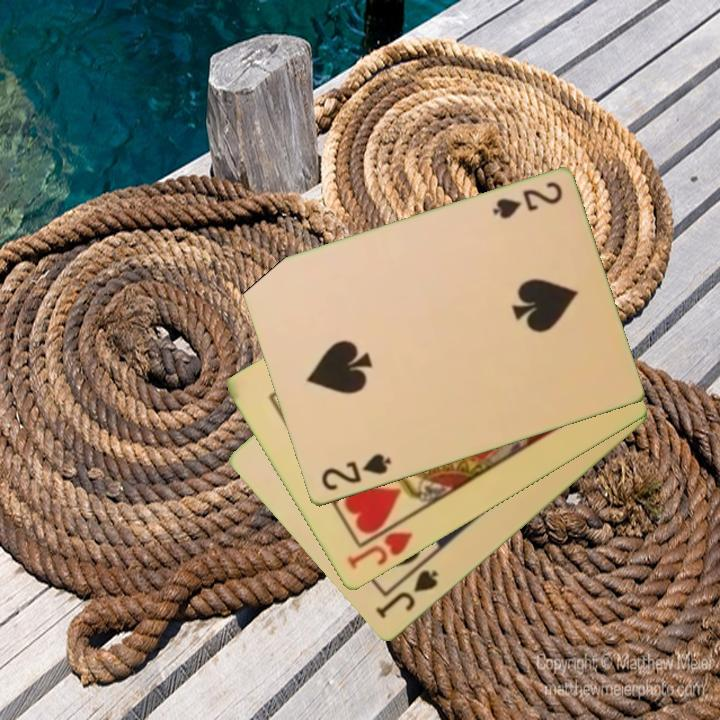2s: (488, 178, 565, 223), (317, 450, 394, 494)
Jh: (343, 529, 416, 573)
Js: (371, 566, 442, 622)
